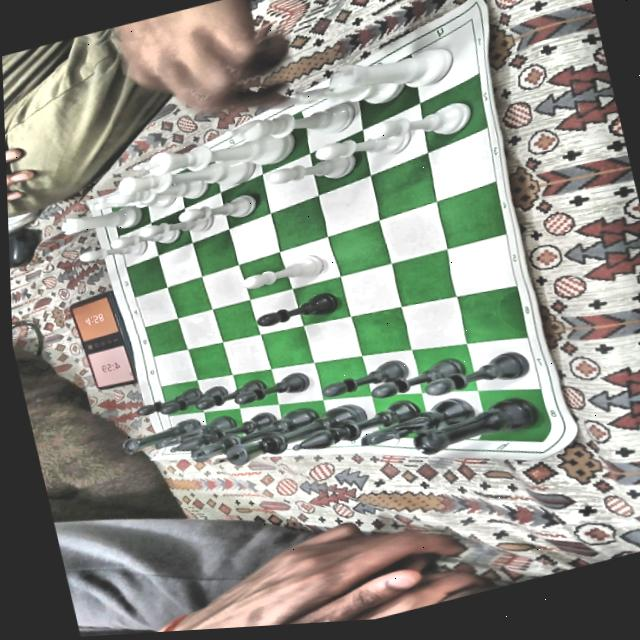BlackBishop: (287, 398, 421, 454), (165, 411, 279, 459)
BlackKing: (204, 403, 369, 471)
BlackKnight: (353, 392, 479, 456)
BlackPawn: (421, 349, 530, 401), (366, 354, 468, 406), (317, 357, 412, 402), (254, 291, 340, 332), (231, 370, 311, 410), (191, 378, 268, 417), (156, 385, 229, 420), (132, 387, 201, 422)
BlackQueen: (185, 406, 323, 465)
BlackRook: (408, 392, 544, 459), (119, 416, 206, 457)
WhiteBishop: (219, 94, 361, 162), (96, 169, 210, 223)
WhiteKing: (128, 118, 300, 200)
WhiteKnight: (285, 66, 406, 128)
WhitePawn: (363, 99, 476, 155), (310, 122, 418, 176), (264, 151, 357, 195), (238, 251, 325, 296), (174, 192, 260, 234), (139, 209, 215, 248), (77, 236, 150, 271), (110, 222, 183, 257)
WhiteQueen: (113, 147, 258, 214)
WhiteRook: (325, 37, 457, 110), (57, 200, 143, 245)
